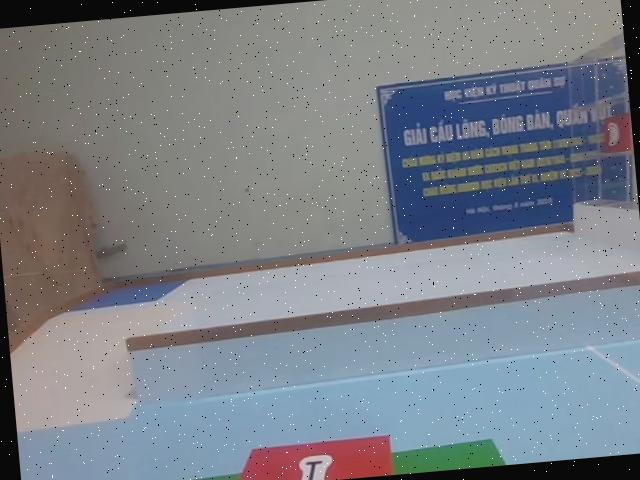R2 Real: (209, 427, 408, 480)
